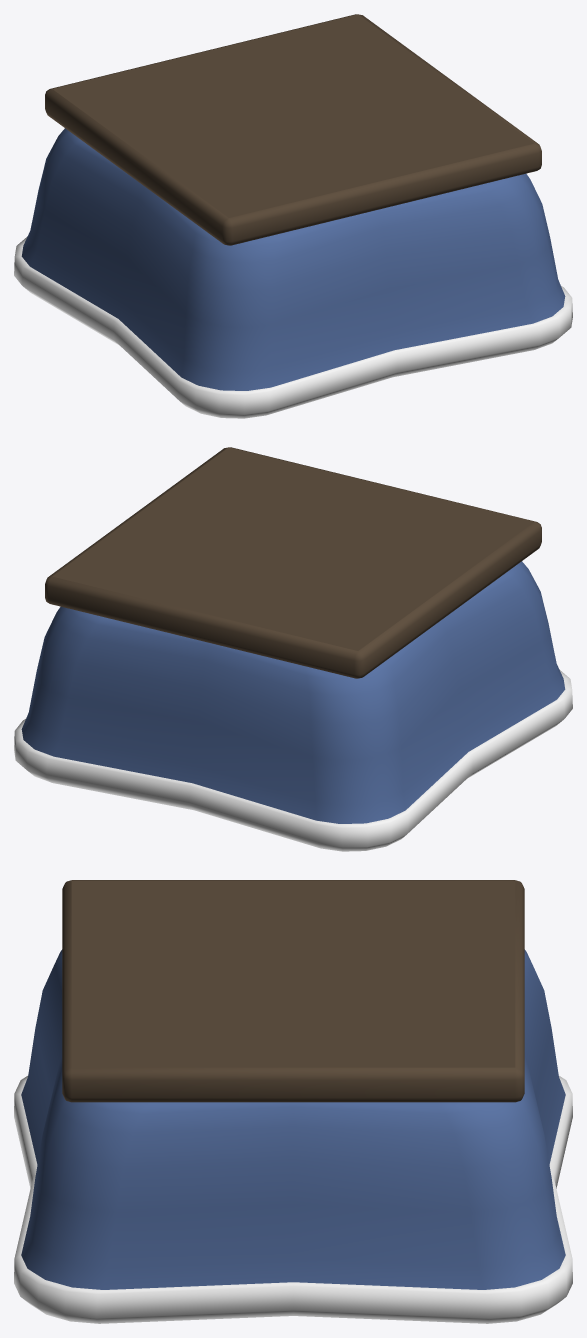
Rendered from Kotatu.fbx.
3 renders of one model, top to bottom at view 1: azimuth 30°, elevation 25°; view 2: azimuth 150°, elevation 25°; view 3: azimuth 270°, elevation 25°, orthographic. The views are drawn at different scales.
Parts seen in each view (by area): view 1: kotatu; view 2: kotatu; view 3: kotatu.
Part boxes in pixels (<box>): kotatu: <box>14,14,572,418</box>; kotatu: <box>14,447,572,851</box>; kotatu: <box>14,880,572,1323</box>.
Bounding box in the file's own units: 2.15 × 1 × 2.15.
1 material, 1 textured.
